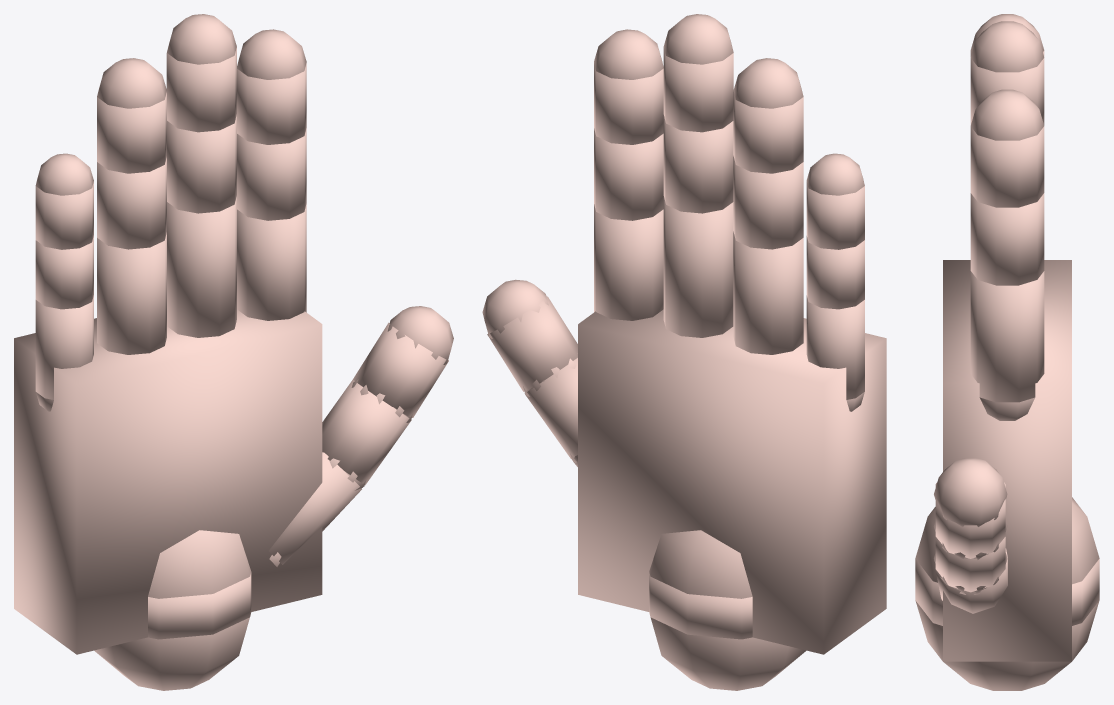
File: hand_R.glb
3 views of the same model, side by side, from view 1: azimuth 30°, elevation 25°; view 2: azimuth 150°, elevation 25°; view 3: azimuth 270°, elevation 25° (orthographic). The views are drawn at different scales.
Parts seen in each view (by area): view 1: hand_R; view 2: hand_R; view 3: hand_R.
Boxes of the visible parts, bbox=[...] form: hand_R: bbox=[14, 14, 453, 690]; hand_R: bbox=[482, 14, 886, 690]; hand_R: bbox=[915, 14, 1099, 690].
Bounding box in the file's own units: 1.51 × 2.43 × 0.6.
